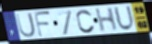7: (57, 10, 72, 36)
C: (76, 8, 97, 34)
F: (33, 11, 53, 39)
H: (94, 6, 119, 34)
U: (112, 4, 137, 33), (14, 12, 37, 39)
